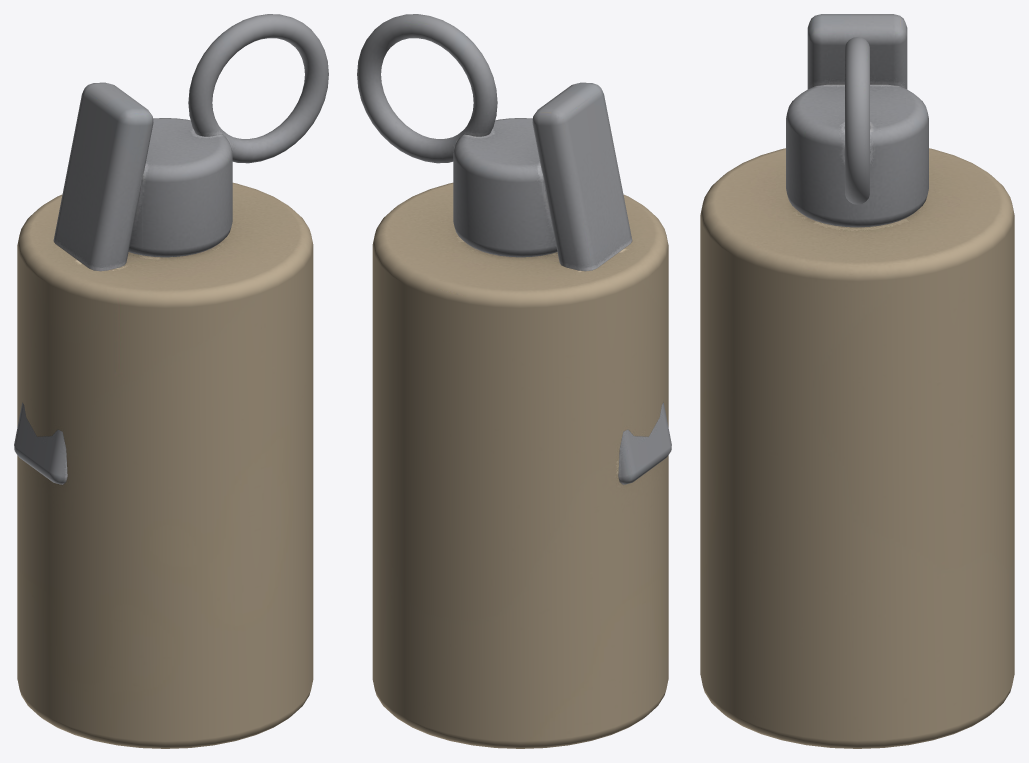
File: decoy.fbx
3 views of the same model, side by side, from view 1: azimuth 30°, elevation 25°; view 2: azimuth 150°, elevation 25°; view 3: azimuth 270°, elevation 25° (orthographic). The views are drawn at different scales.
Parts seen in each view (by area): view 1: decoy; view 2: decoy; view 3: decoy.
Boxes of the visible parts, box(x1,y1,x2,y2) form: decoy: box(14, 14, 328, 748); decoy: box(357, 14, 671, 748); decoy: box(700, 14, 1014, 748).
Size of the model in its own units: 0.0506 by 0.1068 by 0.044.
